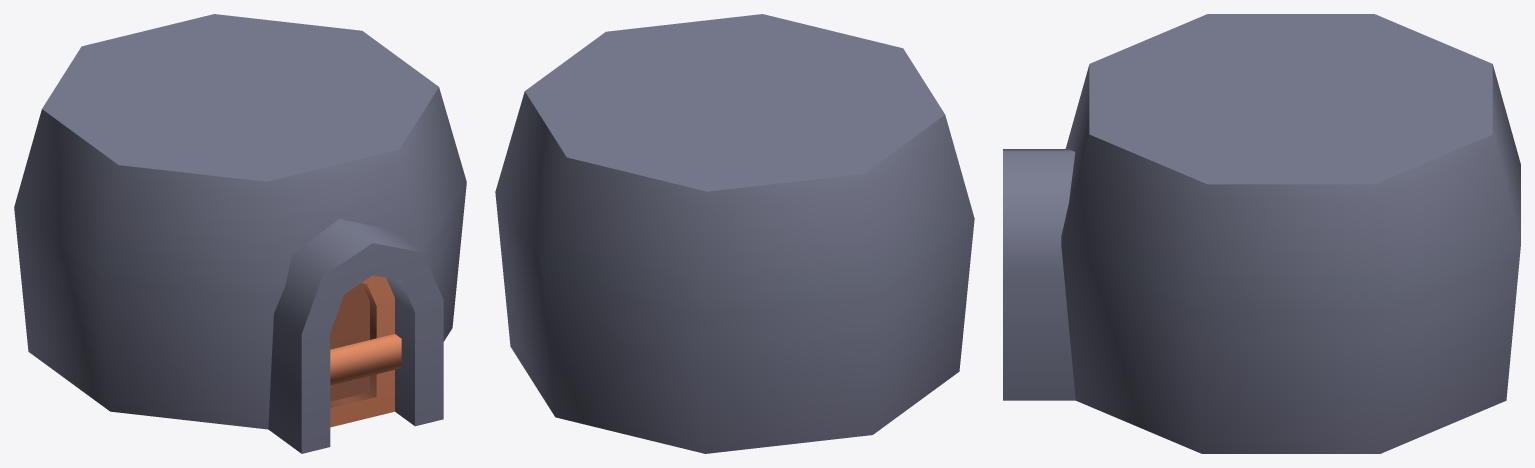
Rendered from tower-base-door.glb.
3 renders of one model, left to right at view 1: azimuth 30°, elevation 25°; view 2: azimuth 150°, elevation 25°; view 3: azimuth 270°, elevation 25°, orthographic. The views are drawn at different scales.
Parts seen in each view (by area): view 1: tower-base-door; view 2: tower-base-door; view 3: tower-base-door.
Part boxes in pixels (box(x1,y1,x2,y2)): tower-base-door: box(14, 14, 466, 453); tower-base-door: box(495, 14, 974, 453); tower-base-door: box(1003, 14, 1520, 453).
Size of the model in its own units: 3.16 by 2 by 3.56.
Materials: 1 (1 with a texture image).
